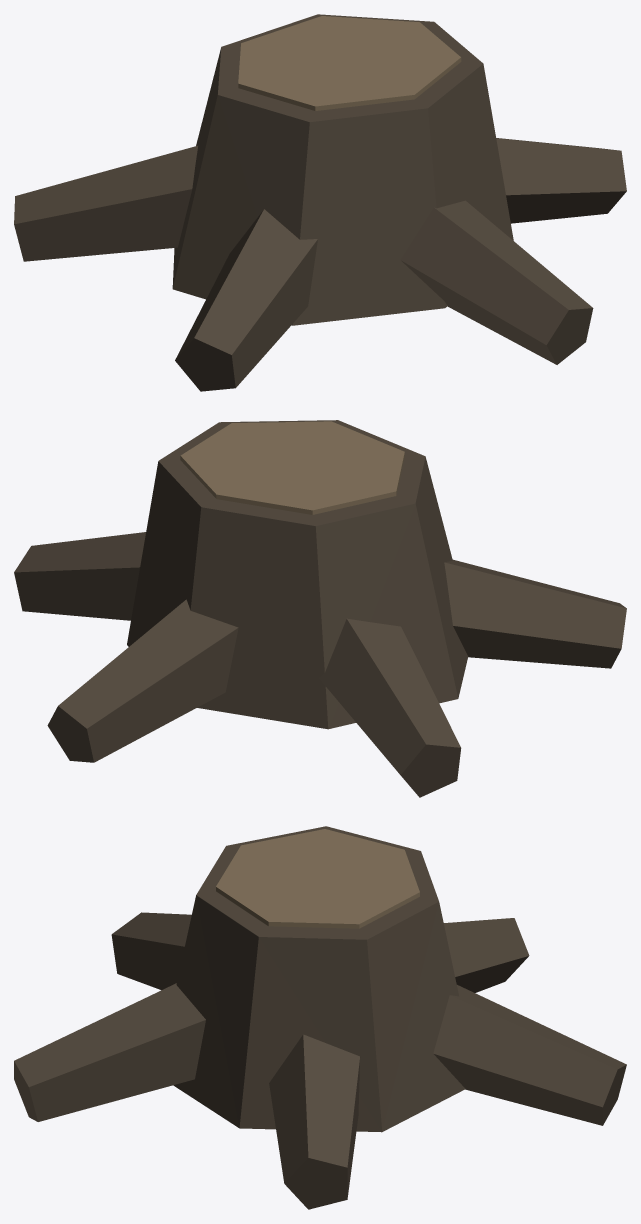
File: NAT_Tree_05_Stump.glb
3 renders of one model, top to bottom at view 1: azimuth 30°, elevation 25°; view 2: azimuth 150°, elevation 25°; view 3: azimuth 270°, elevation 25°, orthographic.
Parts seen in each view (by area): view 1: NAT_Tree_05_Stump; view 2: NAT_Tree_05_Stump; view 3: NAT_Tree_05_Stump.
Boxes of the visible parts, x1,y1,x2,y2 form: NAT_Tree_05_Stump: (14, 14, 626, 391); NAT_Tree_05_Stump: (14, 420, 626, 797); NAT_Tree_05_Stump: (14, 826, 626, 1209).
Bounding box in the file's own units: 1.18 × 0.4597 × 1.23.
